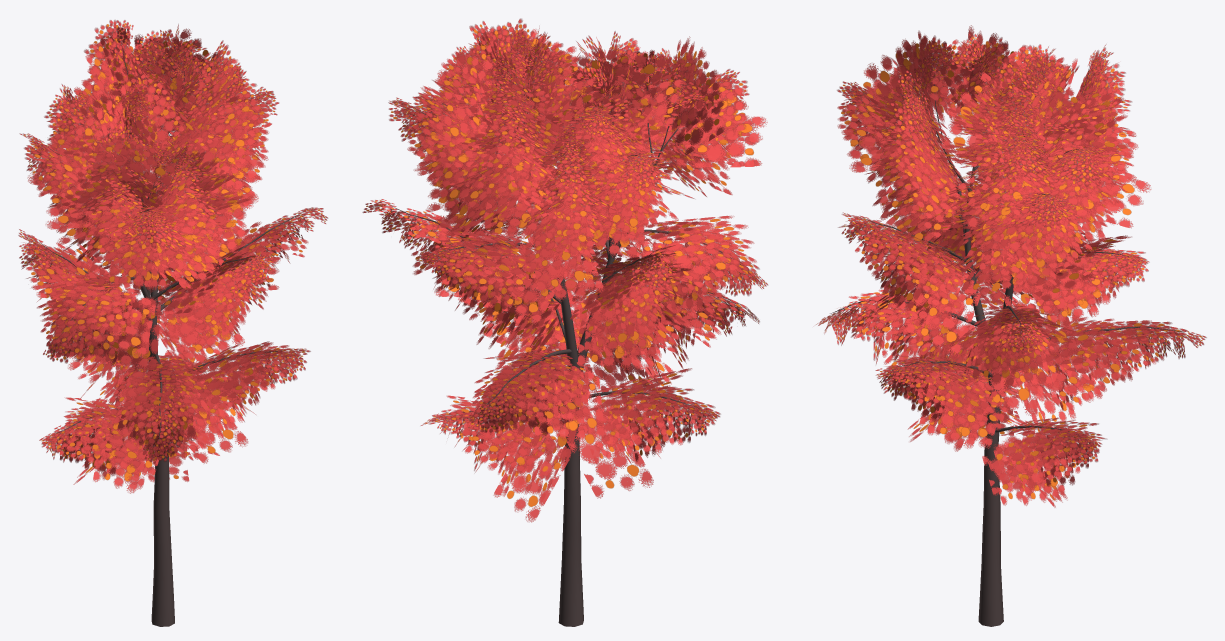
File: tree.glb
3 views of the same model, side by side, from view 1: azimuth 30°, elevation 25°; view 2: azimuth 150°, elevation 25°; view 3: azimuth 270°, elevation 25° (orthographic). The views are drawn at different scales.
Visible parts, largest first — view 1: leaves, tree; view 2: leaves, tree; view 3: leaves, tree.
Part boxes in pixels (x1,y1,x2,y2): leaves: (18,20,327,493); tree: (40,49,303,626); leaves: (362,18,767,522); tree: (390,46,741,626); leaves: (816,25,1206,507); tree: (830,66,1184,626).
Bounding box in the file's own units: 1013 × 1665 × 1020.
Materials: 2 (1 with a texture image).
